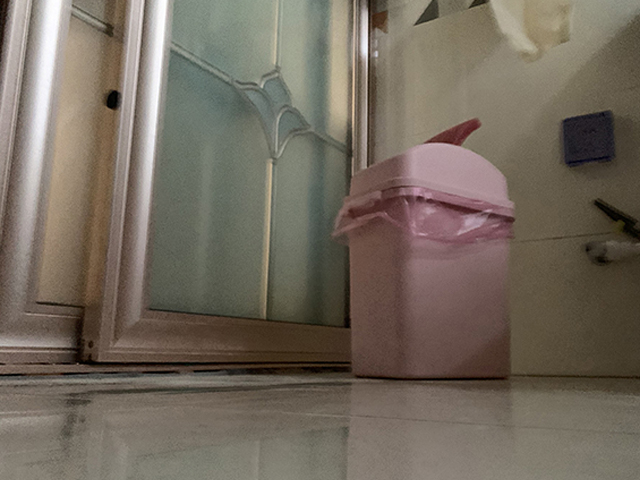trashcan: (343, 118, 517, 381)
